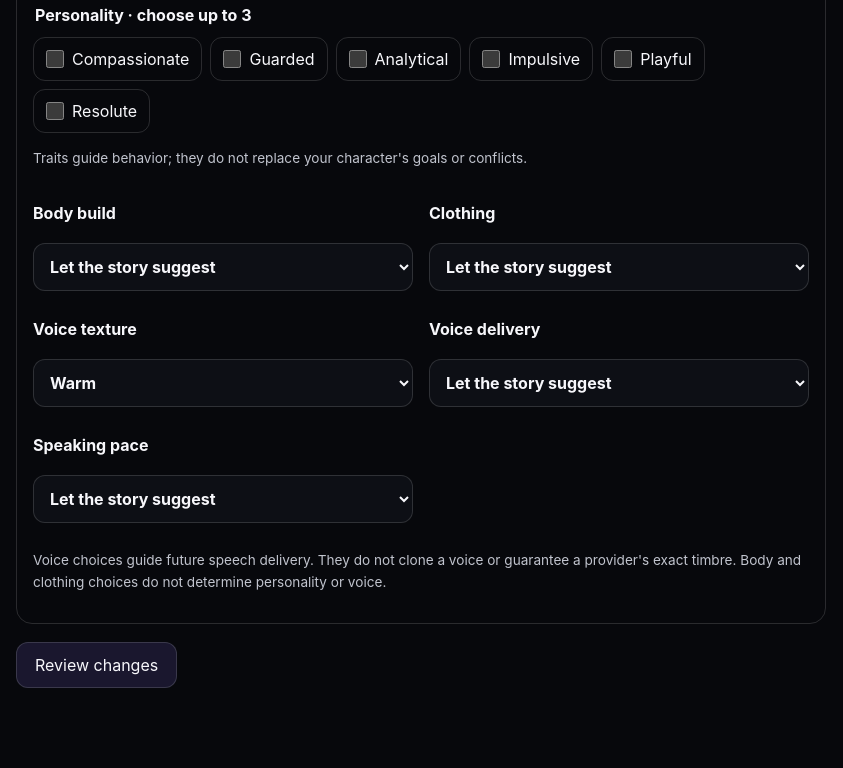
Test: Cast direction review UX › preloads existing directions and prevents duplicate submissions
(page scrolled)
Check: the dropdown labelled "Voice texture" shows "Warm", box [33,359,413,407]
Step 1. Click the button "Review changes" → (97, 665), box [16,642,177,688]
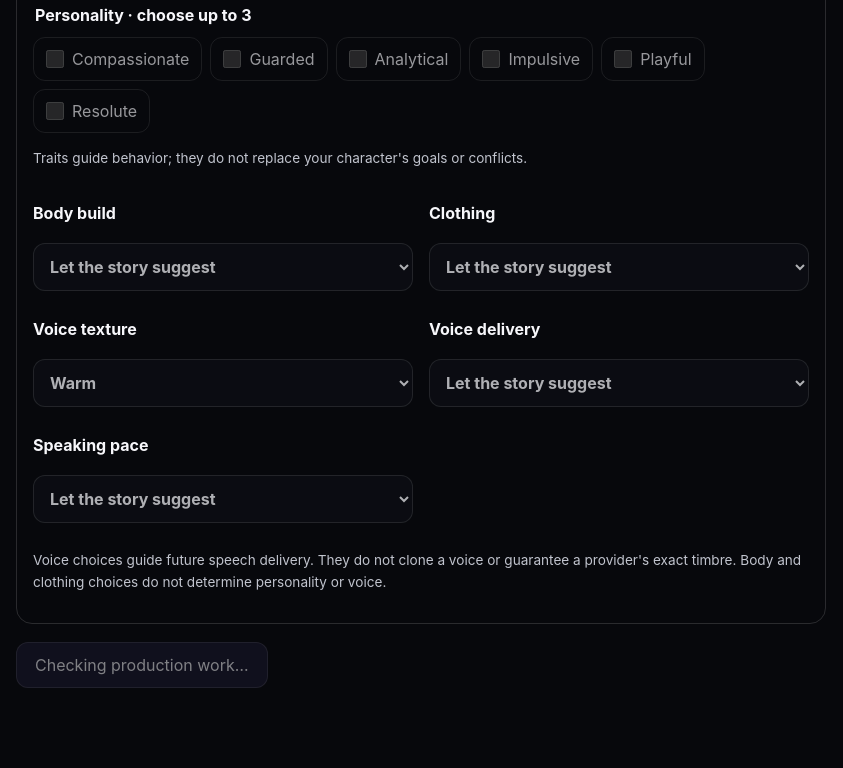
Step 2. Click the button named "Review changes" → (142, 665), box [16,642,268,688]
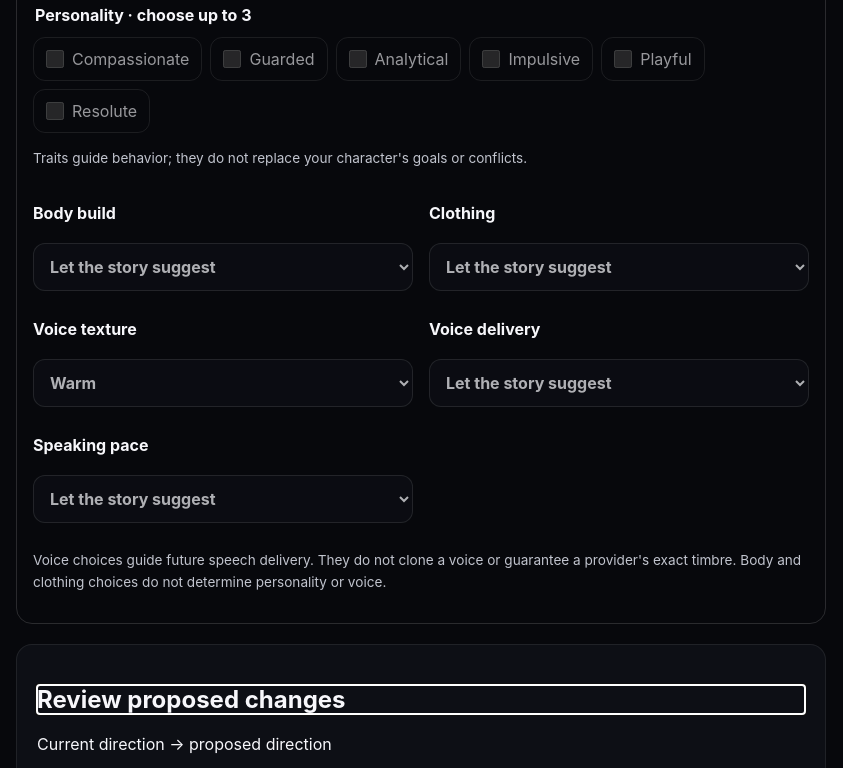
Check: the heading "Review proposed changes" is shown, box [37,685,346,714]
